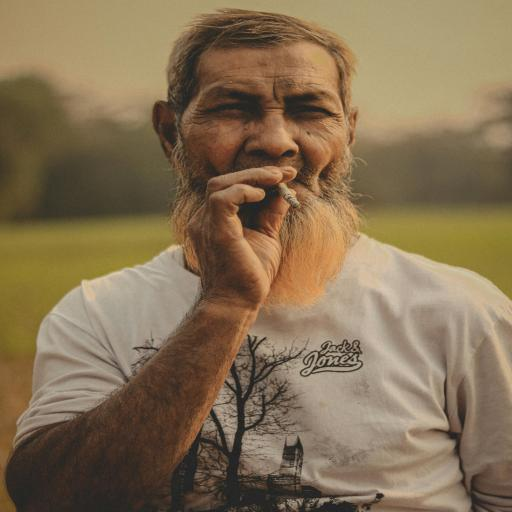terdeteksi merokok: (192, 58, 362, 247)
